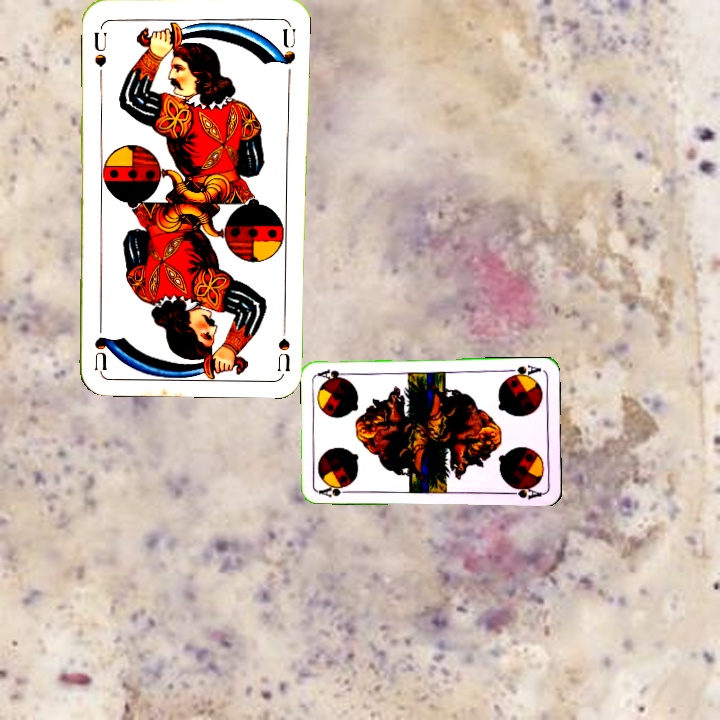SA: (504, 361, 543, 380), (316, 482, 356, 500)
SU: (273, 313, 293, 372), (89, 27, 110, 69)
